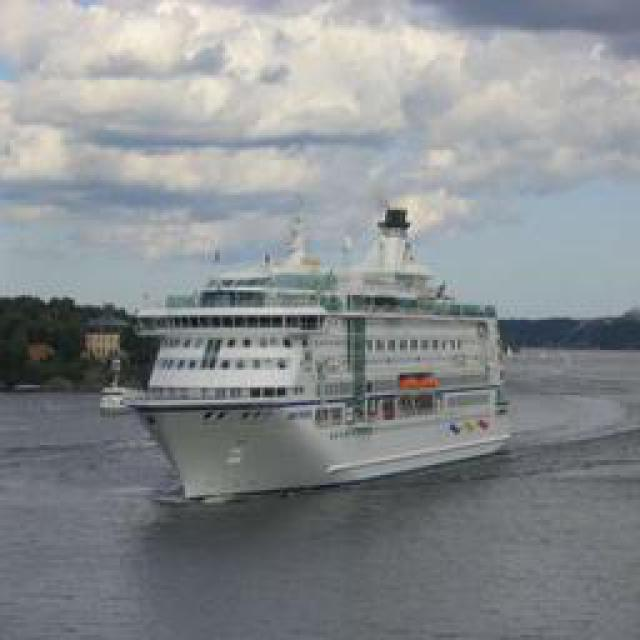Ship: (125, 196, 513, 514)
